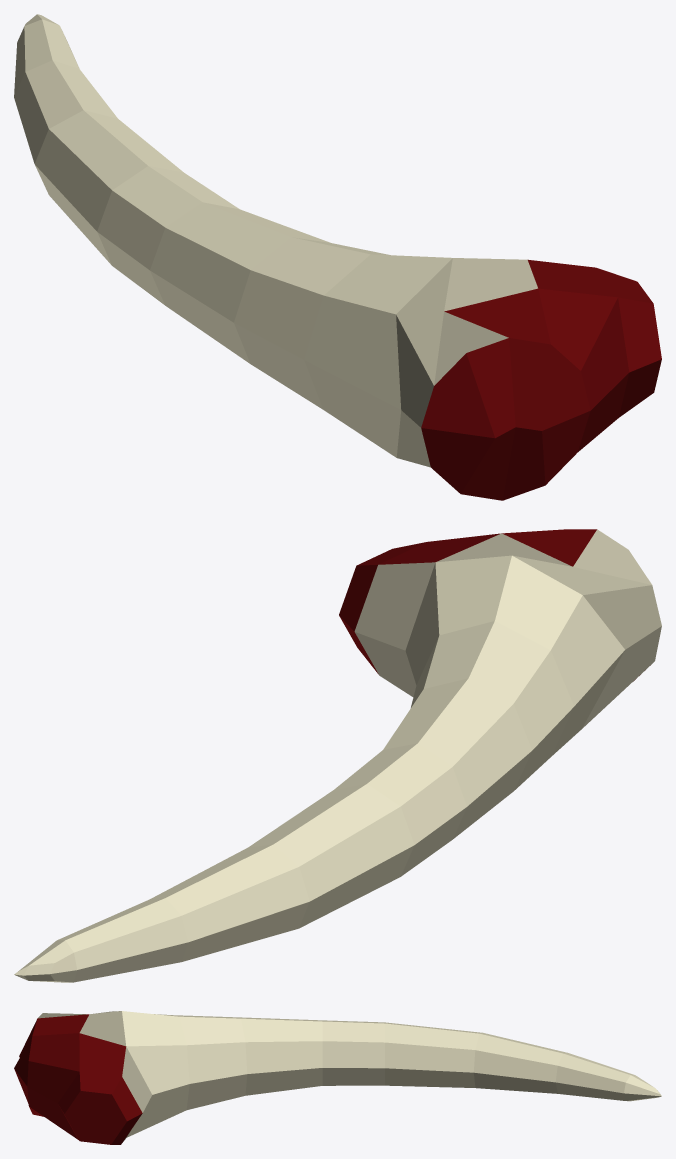
Rendered from crochet de serpent.fbx.
The picture shows the model from 3 angles, top to bottom: view 1: azimuth 30°, elevation 25°; view 2: azimuth 150°, elevation 25°; view 3: azimuth 270°, elevation 25°; orthographic projection. The views are drawn at different scales.
Parts seen in each view (by area): view 1: Plane.002; view 2: Plane.002; view 3: Plane.002.
Part boxes in pixels (left/top/right/bottom): Plane.002: left=14, top=14, right=661, bottom=500; Plane.002: left=14, top=529, right=661, bottom=982; Plane.002: left=14, top=1011, right=661, bottom=1144.
Size of the model in its own units: 8.14 by 5.11 by 25.89.
